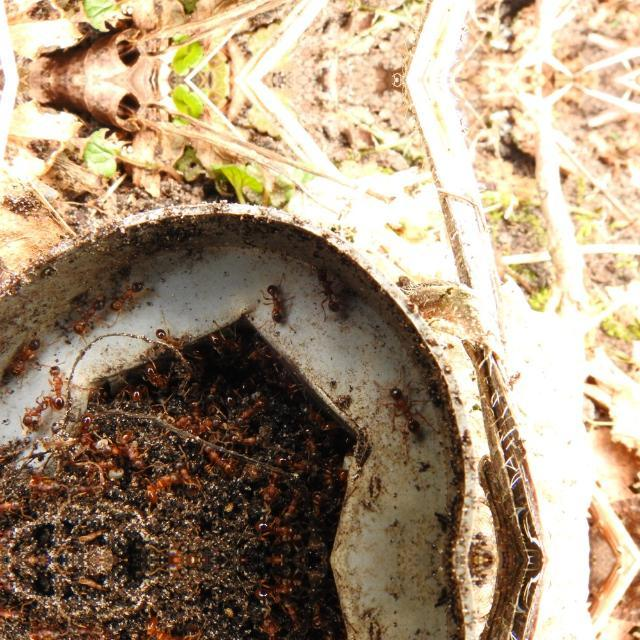Myrmica: (372, 376, 432, 440), (312, 262, 352, 318), (250, 512, 306, 544), (250, 576, 306, 608), (259, 279, 297, 325), (6, 334, 46, 376), (68, 298, 110, 336), (104, 278, 148, 314), (150, 324, 190, 362), (44, 362, 74, 412), (115, 425, 148, 469), (198, 442, 240, 476), (140, 470, 182, 502), (233, 391, 271, 425), (173, 457, 207, 495), (270, 449, 318, 475), (74, 408, 102, 452), (18, 394, 52, 430), (296, 401, 336, 431), (203, 327, 245, 355), (25, 472, 73, 494), (258, 467, 288, 501), (168, 400, 202, 430), (225, 428, 271, 450), (97, 464, 125, 500), (140, 616, 182, 640), (140, 360, 172, 390), (297, 426, 325, 460), (0, 522, 26, 556), (0, 562, 26, 596), (200, 371, 226, 401), (306, 486, 330, 518), (306, 602, 330, 634), (25, 624, 73, 640), (121, 374, 149, 401), (152, 540, 186, 560), (152, 560, 186, 580), (191, 416, 221, 438), (258, 618, 286, 640), (97, 620, 125, 640), (173, 624, 207, 640), (0, 497, 24, 519), (0, 601, 24, 623), (88, 392, 106, 411)
